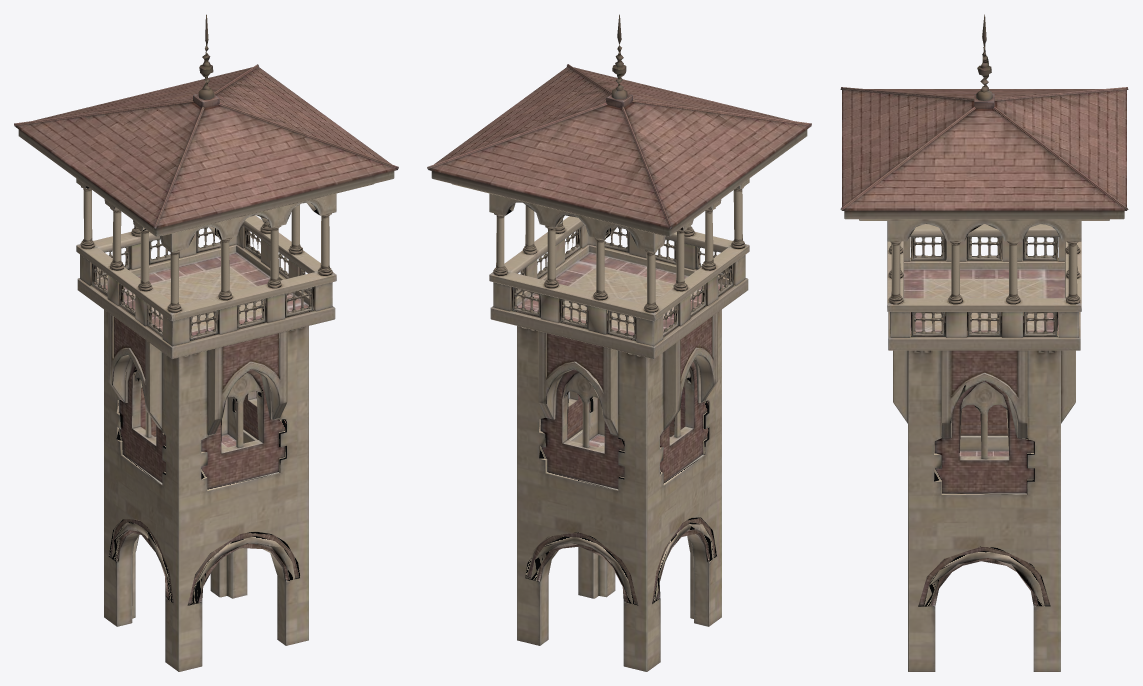
File: clock-tower.far.glb
The picture shows the model from 3 angles, left to right: view 1: azimuth 30°, elevation 25°; view 2: azimuth 150°, elevation 25°; view 3: azimuth 270°, elevation 25°; orthographic projection.
Parts seen in each view (by area): view 1: Object_18, Object_14, Object_5, Object_19, Object_9, Object_13, Object_26; view 2: Object_18, Object_14, Object_5, Object_19, Object_9, Object_13, Object_26; view 3: Object_14, Object_18, Object_5, Object_19, Object_13, Object_9, Object_26.
Boxes of the visible parts, x1,y1,x2,y2 form: Object_18: (104, 309, 308, 671); Object_14: (14, 14, 398, 236); Object_5: (76, 178, 336, 358); Object_19: (108, 312, 287, 447); Object_9: (80, 186, 332, 312); Object_13: (102, 252, 308, 335); Object_26: (126, 333, 279, 443); Object_18: (517, 309, 721, 671); Object_14: (427, 14, 811, 236); Object_5: (489, 178, 749, 359); Object_19: (538, 312, 717, 447); Object_9: (493, 186, 745, 312); Object_13: (517, 252, 723, 335); Object_26: (546, 333, 699, 443); Object_14: (840, 14, 1128, 220); Object_18: (908, 350, 1060, 671); Object_5: (887, 221, 1081, 352); Object_19: (893, 350, 1075, 459); Object_13: (904, 269, 1064, 333); Object_9: (888, 241, 1080, 304); Object_26: (951, 375, 1012, 450).
Size of the model in its own units: 7.04 by 16.87 by 7.04.
Materials: 8 (8 with a texture image).
